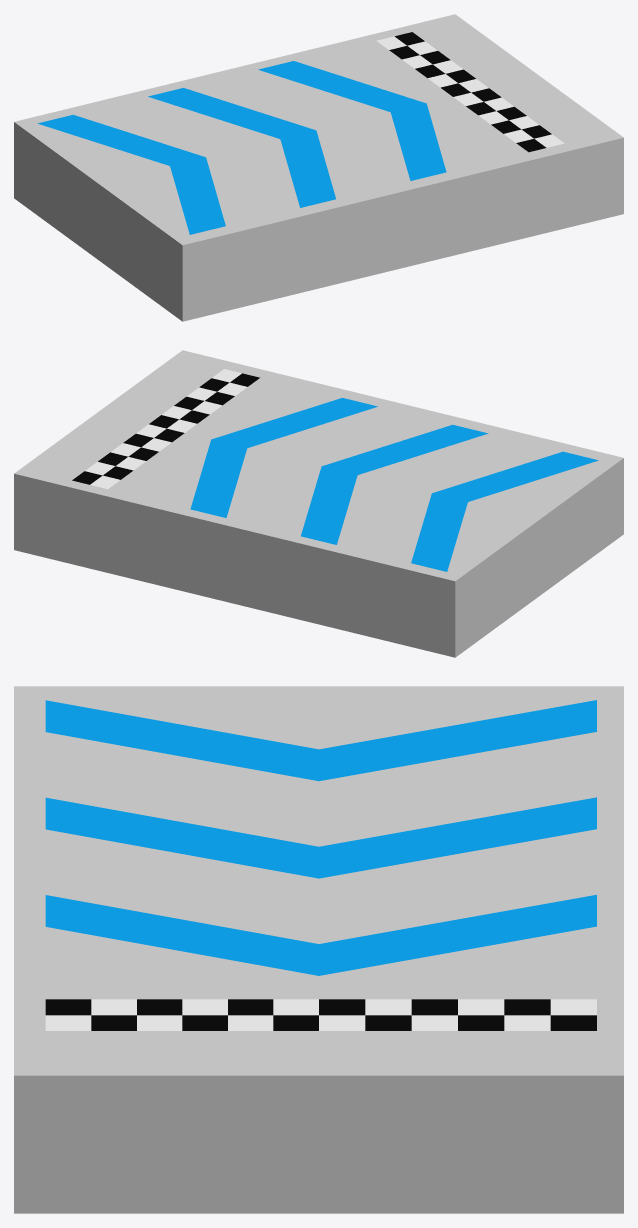
The model's file is platformfinish.fbx.
3 renders of one model, top to bottom at view 1: azimuth 30°, elevation 25°; view 2: azimuth 150°, elevation 25°; view 3: azimuth 270°, elevation 25°, orthographic. The views are drawn at different scales.
Parts seen in each view (by area): view 1: bridge with finish line; view 2: bridge with finish line; view 3: bridge with finish line.
Part boxes in pixels (x1=…): bridge with finish line: x1=14, y1=14, x2=623, y2=321; bridge with finish line: x1=14, y1=350, x2=623, y2=657; bridge with finish line: x1=14, y1=686, x2=623, y2=1213.
Bounding box in the file's own units: 604 × 100 × 400.
